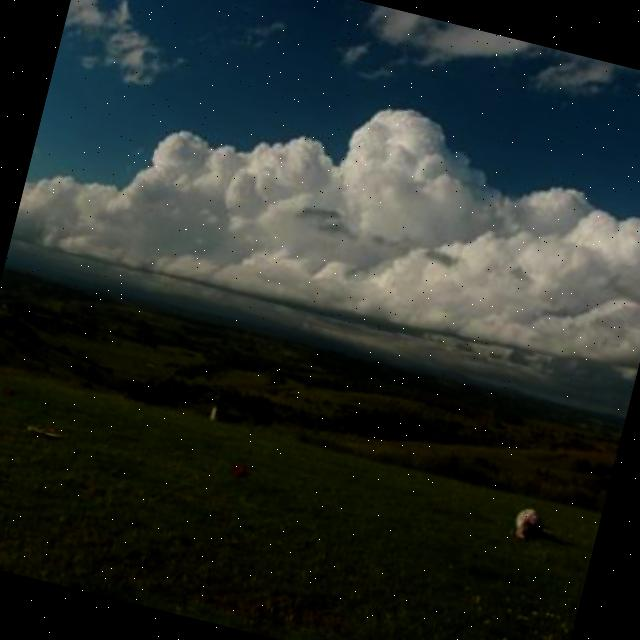Cu: (7, 1, 640, 411)
